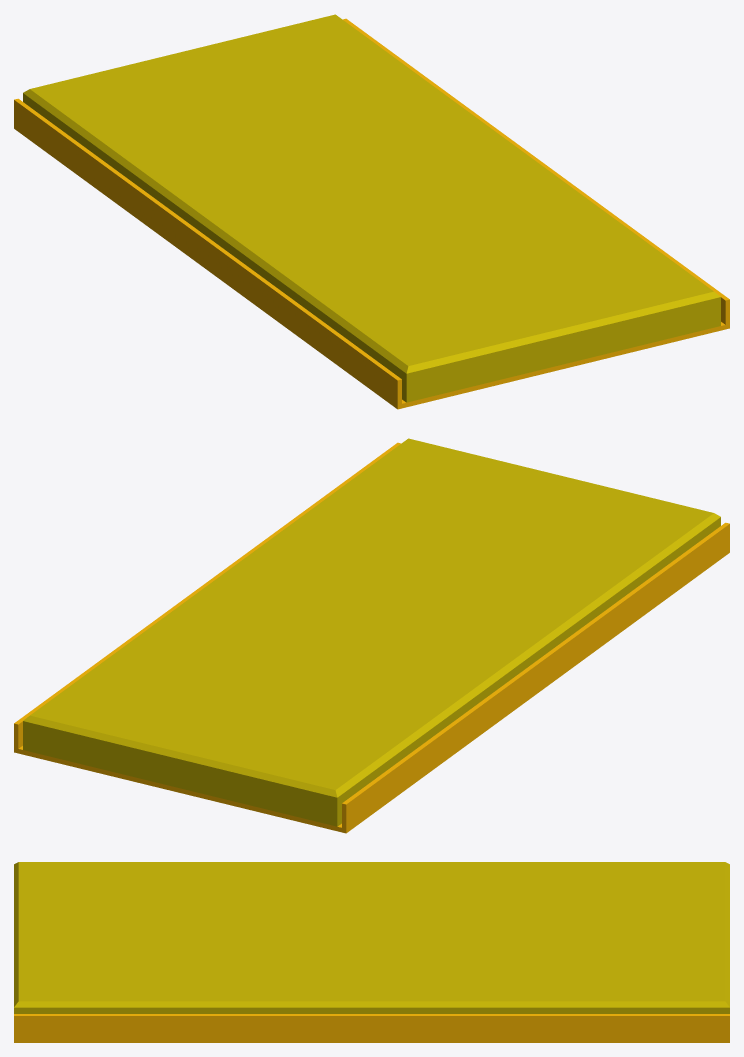
The model's file is seat_bed_6x3.dae.
3 views of the same model, one above another, from view 1: azimuth 30°, elevation 25°; view 2: azimuth 150°, elevation 25°; view 3: azimuth 270°, elevation 25° (orthographic). The views are drawn at different scales.
Visible parts, largest first — view 1: Cube; view 2: Cube; view 3: Cube.
Boxes of the visible parts, x1,y1,x2,y2 form: Cube: [14, 14, 729, 409]; Cube: [14, 438, 729, 833]; Cube: [14, 862, 729, 1042].
Bounding box in the file's own units: 0.75 × 1.5 × 0.0825.
